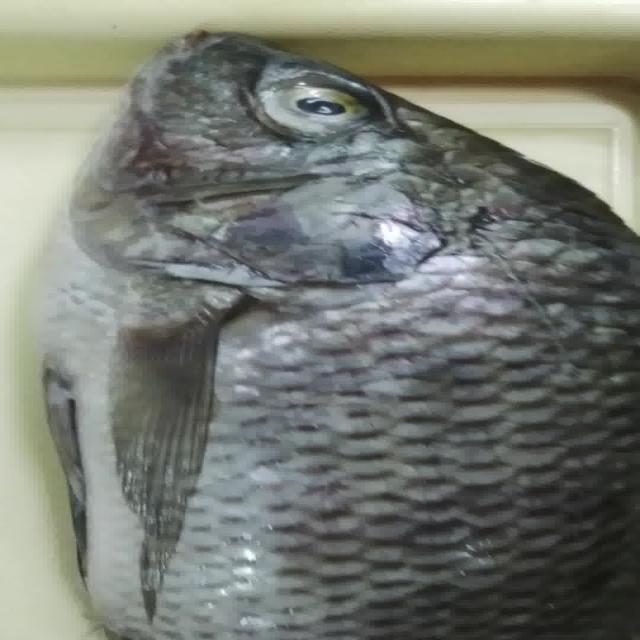Non-Fresh: (253, 74, 379, 140)
